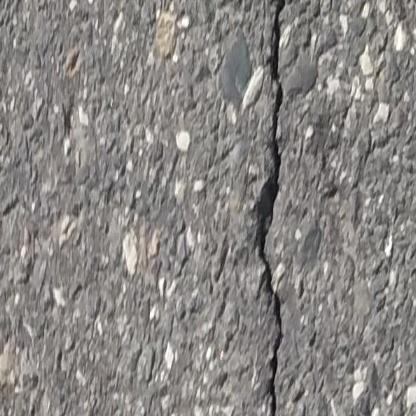Cracks: (244, 0, 293, 416)
